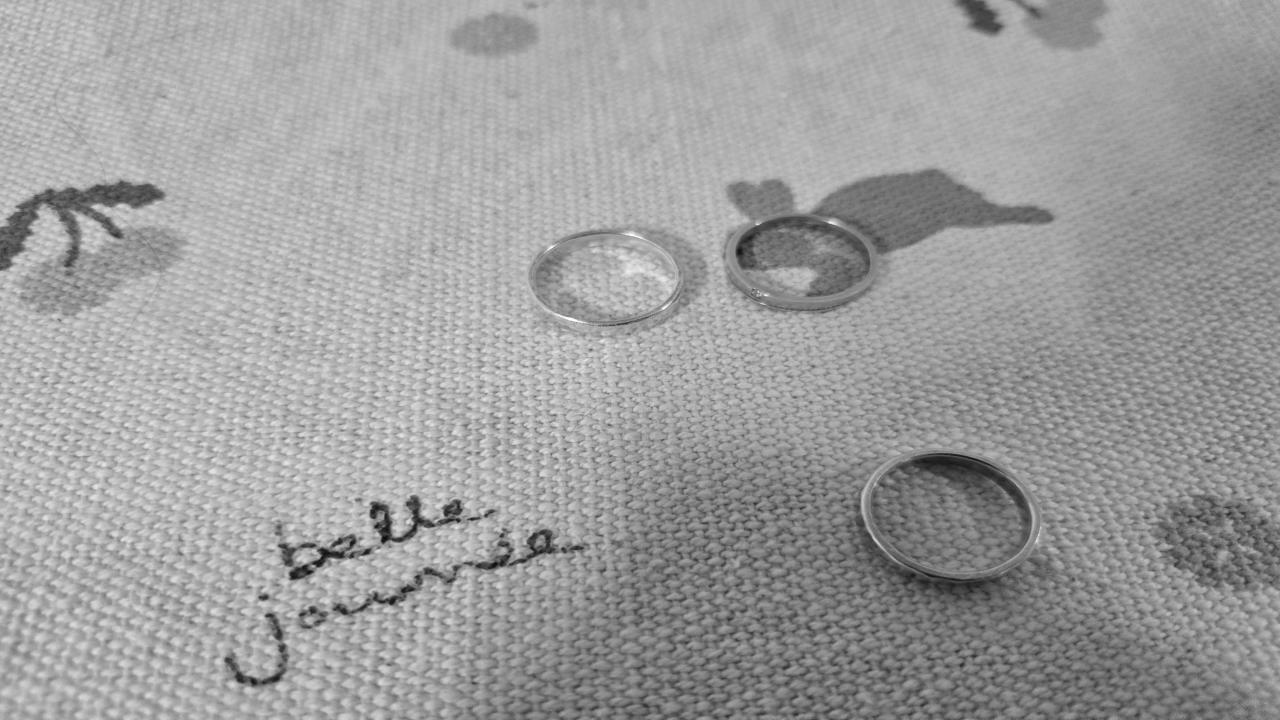ring: (857, 450, 1043, 580), (526, 229, 686, 335), (722, 212, 878, 313)
